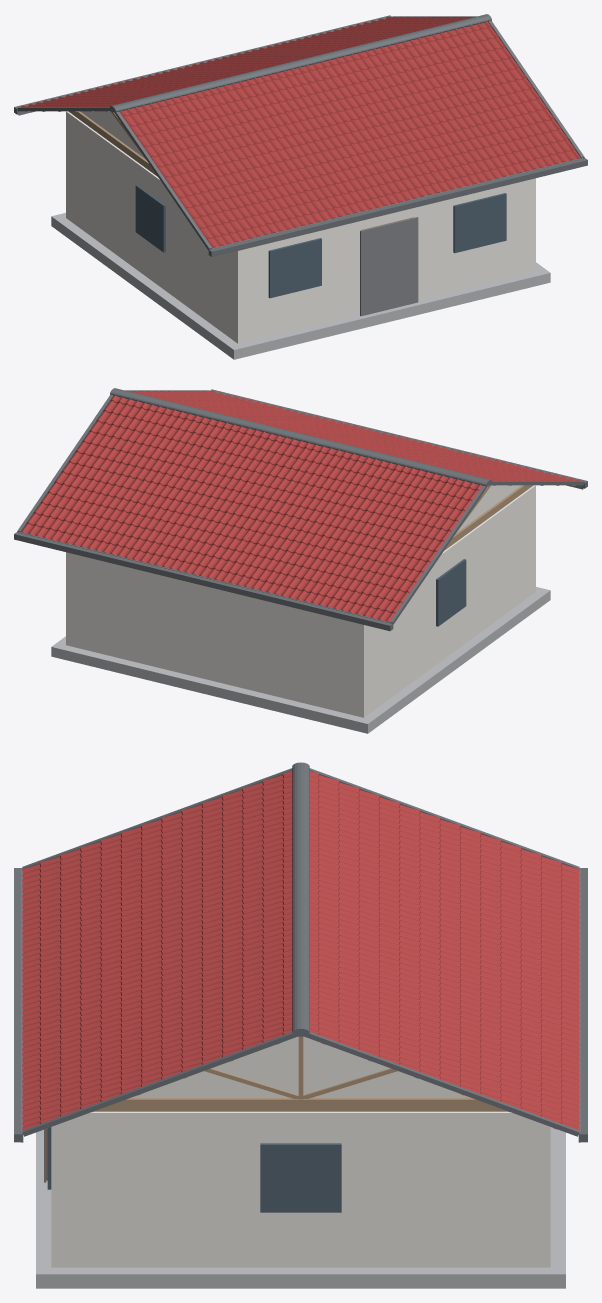
Rendered from Hermosa_Tile_Single_Storey_8x8.glb.
3 renders of one model, top to bottom at view 1: azimuth 30°, elevation 25°; view 2: azimuth 150°, elevation 25°; view 3: azimuth 270°, elevation 25°, orthographic. The views are drawn at different scales.
Parts seen in each view (by area): view 1: GroundFloor_Walls, Foundation, RoofSheet_04, RoofSheet_05, RoofSheet_09, RoofSheet_06, RoofSheet_08, RoofSheet_07, RoofSheet_02, RoofSheet_03, RoofSheet_10, RoofSheet_01 (+23 smaller); view 2: GroundFloor_Walls, Foundation, RoofSheet_14, RoofSheet_15, RoofSheet_19, RoofSheet_16, RoofSheet_18, RoofSheet_17, RoofSheet_12, RoofSheet_13, RoofSheet_20, RoofSheet_11 (+20 smaller); view 3: GroundFloor_Walls, Foundation, Gable_Wall_Right, RoofSheet_05, RoofSheet_15, RoofSheet_06, RoofSheet_07, RoofSheet_16, RoofSheet_17, RoofSheet_08, RoofSheet_18, RoofSheet_01 (+21 smaller).
Boxes of the visible parts, x1,y1,x2,y2 form: GroundFloor_Walls: (66,111,535,343); Foundation: (51,213,550,359); RoofSheet_04: (229,76,358,221); RoofSheet_05: (266,67,396,212); RoofSheet_09: (415,30,545,175); RoofSheet_06: (303,58,433,202); RoofSheet_08: (378,39,507,184); RoofSheet_07: (341,48,470,193); RoofSheet_02: (154,94,284,239); RoofSheet_03: (191,85,321,230); RoofSheet_10: (452,21,581,166); RoofSheet_01: (119,103,247,247); GroundFloor_Walls: (66,485,535,717); Foundation: (51,587,550,733); RoofSheet_14: (243,450,372,595); RoofSheet_15: (205,441,335,586); RoofSheet_19: (56,404,186,549); RoofSheet_16: (168,432,298,576); RoofSheet_18: (94,413,223,558); RoofSheet_17: (131,422,260,567); RoofSheet_12: (317,468,447,613); RoofSheet_13: (280,459,410,604); RoofSheet_20: (20,395,149,540); RoofSheet_11: (354,477,482,621); GroundFloor_Walls: (51,1111,550,1267); Foundation: (36,1127,565,1288); Gable_Wall_Right: (131,1036,470,1097); RoofSheet_05: (22,876,292,1000); RoofSheet_15: (309,876,579,1000); RoofSheet_06: (22,903,292,1026); RoofSheet_07: (22,929,292,1052); RoofSheet_16: (309,903,579,1026); RoofSheet_17: (309,929,579,1052); RoofSheet_08: (22,955,292,1079); RoofSheet_18: (309,955,579,1079); RoofSheet_01: (22,771,292,894).
Size of the model in its own units: 10.1 by 4.97 by 9.2.
